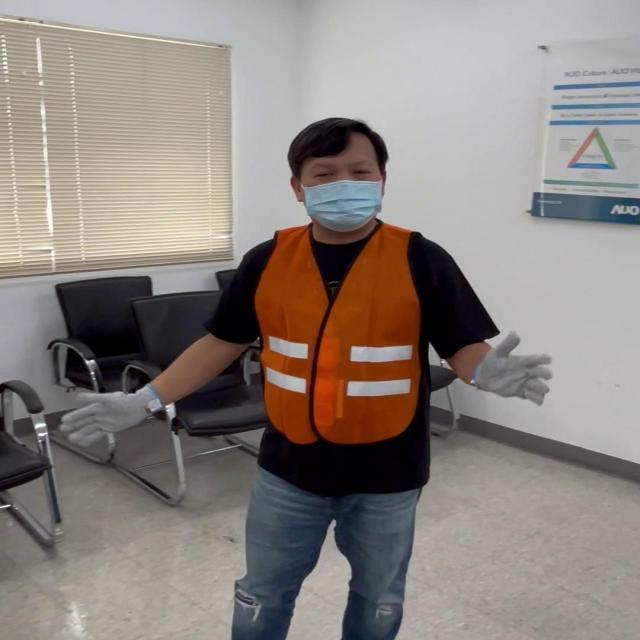gloved_hand: (67, 384, 162, 446), (474, 329, 548, 404)
